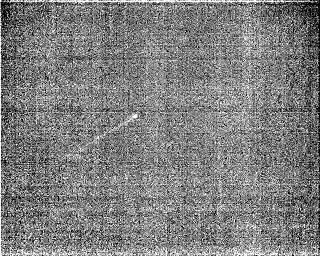AIRPLANE: (73, 112, 140, 154)
